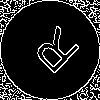R: (25, 25, 82, 83)
